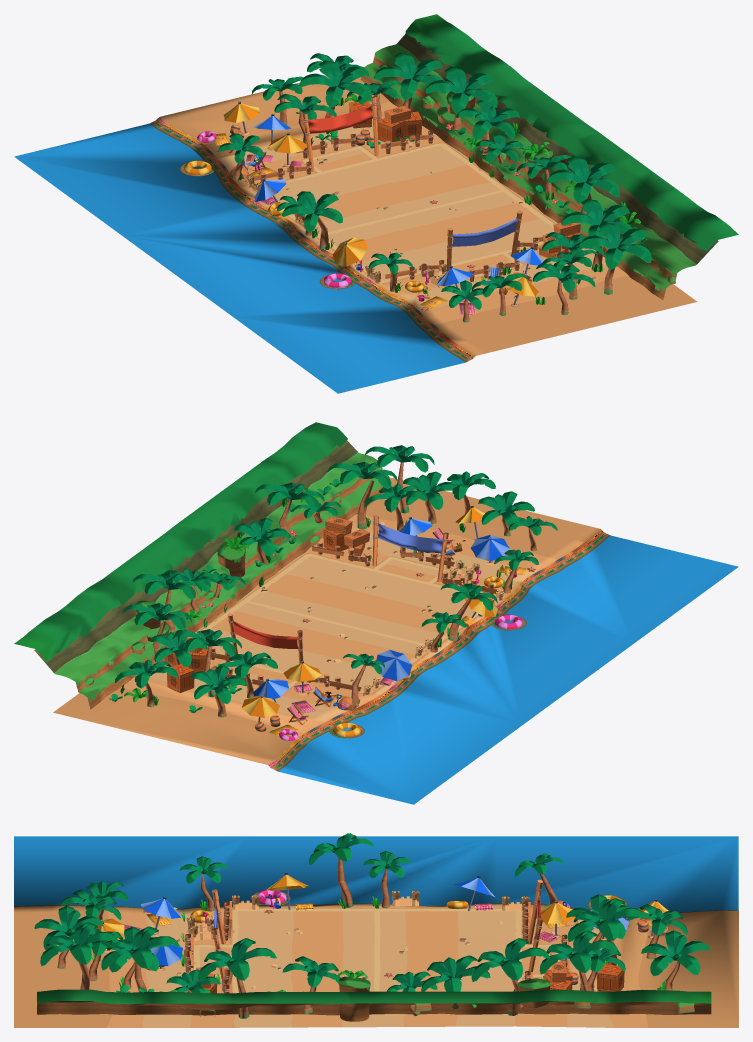
Rendered from grassfield.glb.
The picture shows the model from 3 angles, top to bottom: view 1: azimuth 30°, elevation 25°; view 2: azimuth 150°, elevation 25°; view 3: azimuth 270°, elevation 25°; orthographic projection. The views are drawn at different scales.
Visible parts, largest first — view 1: bgr_island_brawl_ball_left, bgr_jungle_right, bgr_grassfield_top.001, Mesh_11.002, Mesh_11.001, Mesh_18.002, Mesh_40.001, bgr_island_brawl_ball_goal_enemy.001, Mesh_18.001, Mesh_11.003, bgr_island_brawl_ball_goal_player.001, Mesh_41.001 (+8 smaller); view 2: bgr_island_brawl_ball_left, bgr_jungle_right, bgr_grassfield_top.001, bgr_island_brawl_ball_goal_player.001, bgr_island_brawl_ball_goal_enemy.001, Mesh_9.001, Mesh_1.003, Mesh_1.002, Mesh_1.001, Mesh_11.002, Mesh_18.001, Mesh_11.001 (+12 smaller); view 3: bgr_island_brawl_ball_left, bgr_jungle_right, Mesh_7.001, Mesh_11.001, Mesh_18.002, Mesh_11.002, Mesh_11.003, Mesh_18.001, Mesh_40.001, bgr_grassfield_top.001, Mesh_41.001, Mesh_7.002 (+25 smaller).
Part boxes in pixels (bbox=[...]): bgr_island_brawl_ball_left: bbox=[14, 67, 697, 393]; bgr_jungle_right: bbox=[360, 14, 738, 299]; bgr_grassfield_top.001: bbox=[253, 131, 548, 283]; Mesh_11.002: bbox=[299, 60, 371, 107]; Mesh_11.001: bbox=[578, 222, 651, 269]; Mesh_18.002: bbox=[547, 156, 619, 203]; Mesh_40.001: bbox=[425, 67, 497, 114]; bgr_island_brawl_ball_goal_enemy.001: bbox=[302, 96, 378, 171]; Mesh_18.001: bbox=[373, 52, 446, 100]; Mesh_11.003: bbox=[561, 199, 631, 236]; bgr_island_brawl_ball_goal_player.001: bbox=[446, 210, 522, 270]; Mesh_41.001: bbox=[455, 100, 519, 139]; bgr_island_brawl_ball_left: bbox=[53, 477, 738, 804]; bgr_jungle_right: bbox=[14, 422, 391, 709]; bgr_grassfield_top.001: bbox=[210, 541, 496, 691]; bgr_island_brawl_ball_goal_player.001: bbox=[372, 515, 448, 582]; bgr_island_brawl_ball_goal_enemy.001: bbox=[227, 612, 304, 682]; Mesh_9.001: bbox=[190, 666, 247, 704]; Mesh_1.003: bbox=[478, 491, 534, 529]; Mesh_1.002: bbox=[234, 518, 290, 556]; Mesh_1.001: bbox=[402, 471, 456, 509]; Mesh_11.002: bbox=[172, 629, 241, 656]; Mesh_18.001: bbox=[122, 603, 191, 630]; Mesh_11.001: bbox=[365, 445, 434, 472]; bgr_island_brawl_ball_left: bbox=[14, 836, 738, 1027]; bgr_jungle_right: bbox=[37, 976, 711, 1021]; Mesh_7.001: bbox=[641, 930, 710, 976]; Mesh_11.001: bbox=[40, 922, 118, 966]; Mesh_18.002: bbox=[198, 938, 276, 981]; Mesh_11.002: bbox=[567, 898, 646, 941]; Mesh_11.003: bbox=[101, 926, 179, 970]; Mesh_18.001: bbox=[539, 930, 618, 974]; Mesh_40.001: bbox=[471, 938, 550, 981]; bgr_grassfield_top.001: bbox=[183, 901, 569, 993]; Mesh_41.001: bbox=[421, 955, 490, 991]; Mesh_7.002: bbox=[34, 905, 103, 949].
Size of the model in its own units: 47.76 by 8.49 by 65.2.
Materials: 1 (1 with a texture image).
